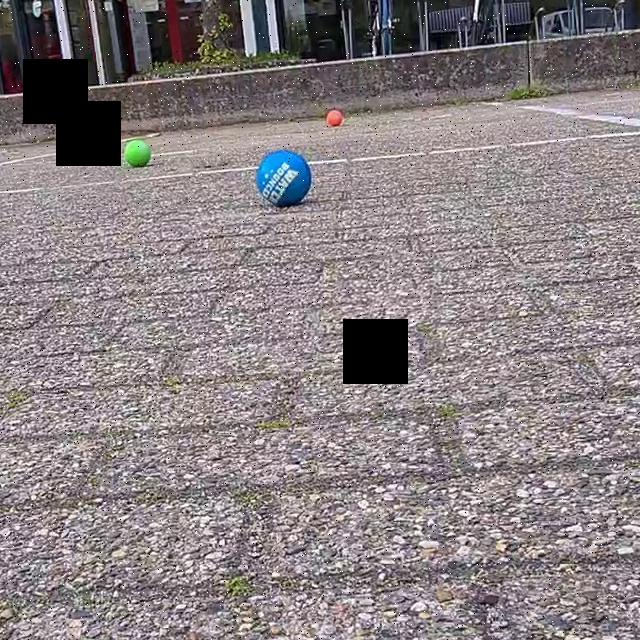ball: (122, 134, 154, 169), (324, 104, 347, 132)
